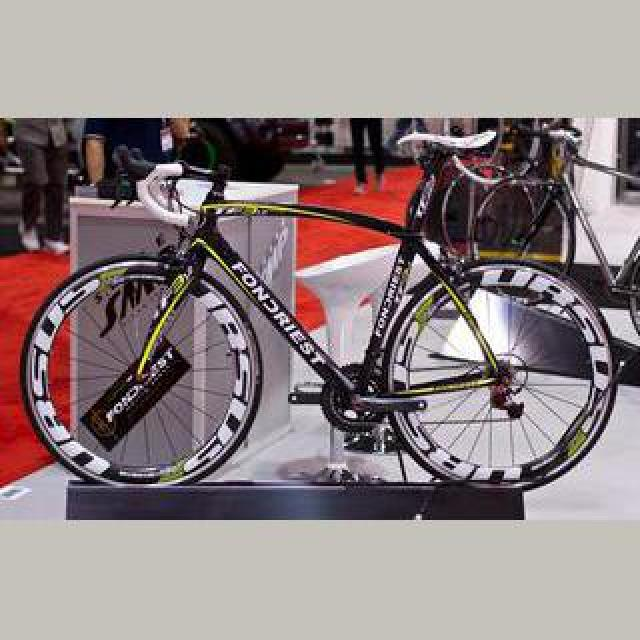Person: (12, 146, 608, 490), (440, 124, 636, 316)
